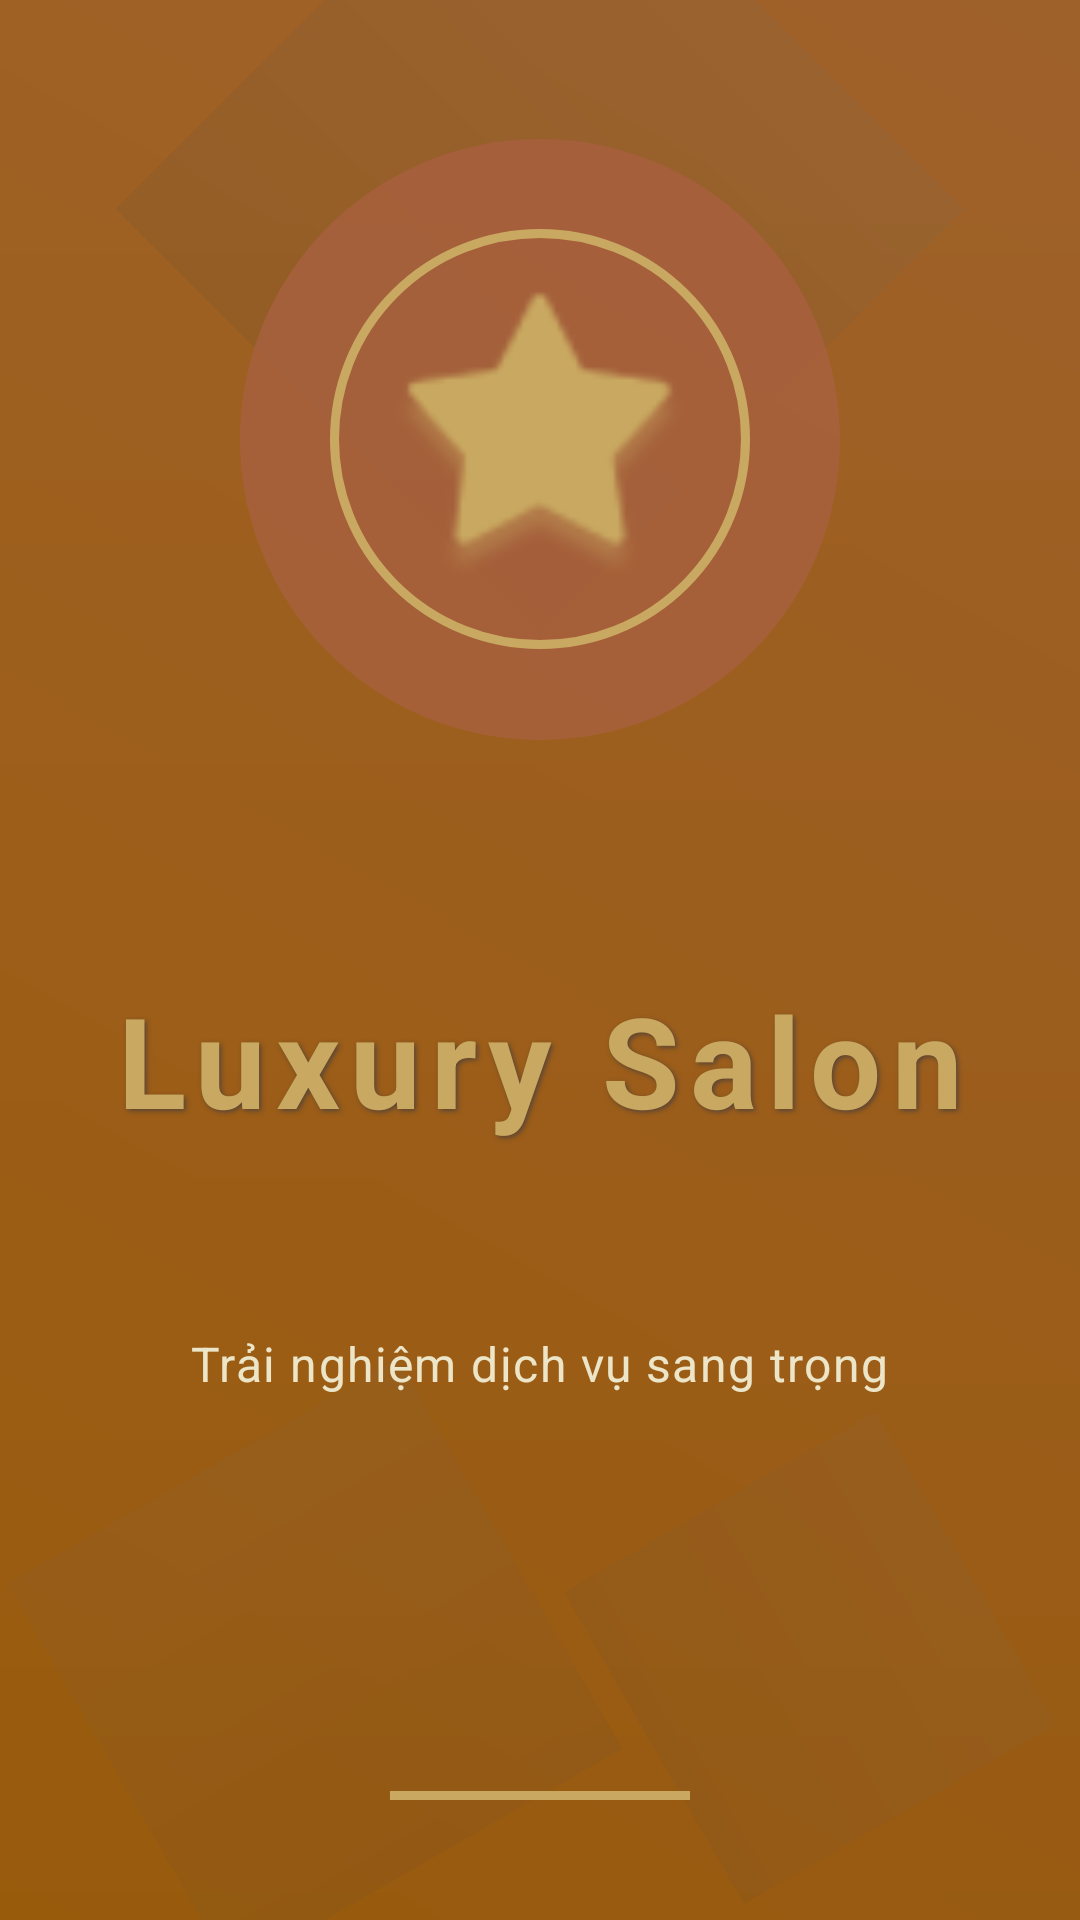

Screen size 1080 × 1920. Icon name, then its box in pixels as {"x1": x1, "y1": y1, "x2": x2, "y2": y2}:
star on: {"x1": 408, "y1": 294, "x2": 671, "y2": 549}
